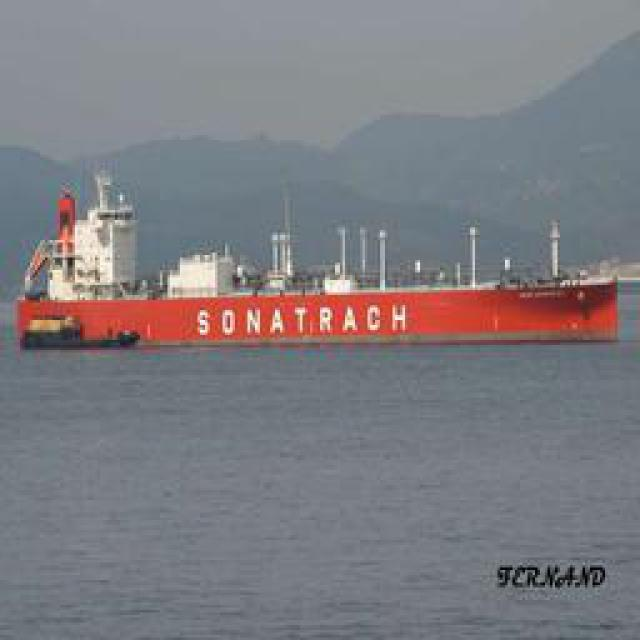Ship: (15, 160, 620, 353)
